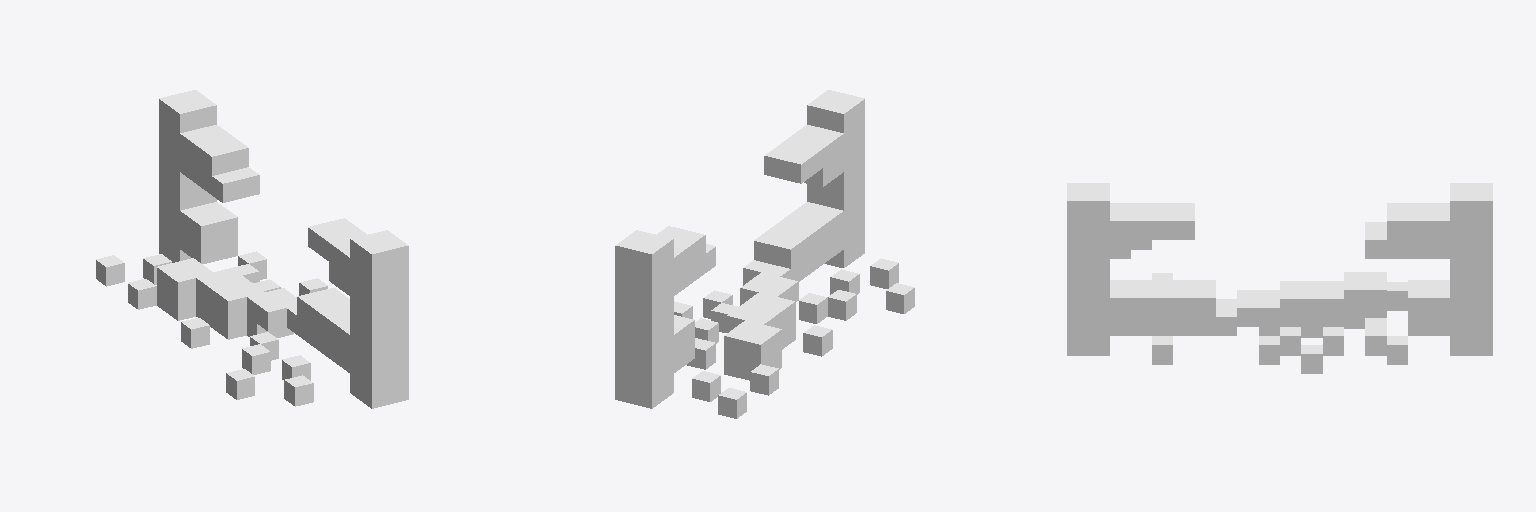
File: wall_break.obj
3 views of the same model, side by side, from view 1: azimuth 30°, elevation 25°; view 2: azimuth 150°, elevation 25°; view 3: azimuth 270°, elevation 25° (orthographic).
Visible parts, largest first — view 1: object 1; view 2: object 1; view 3: object 1.
Part boxes in pixels (x1,y1,x2,y2): object 1: (96,90,408,408); object 1: (615,90,914,418); object 1: (1067,183,1492,373).
Bounding box in the file's own units: 0.9 × 0.8 × 2.